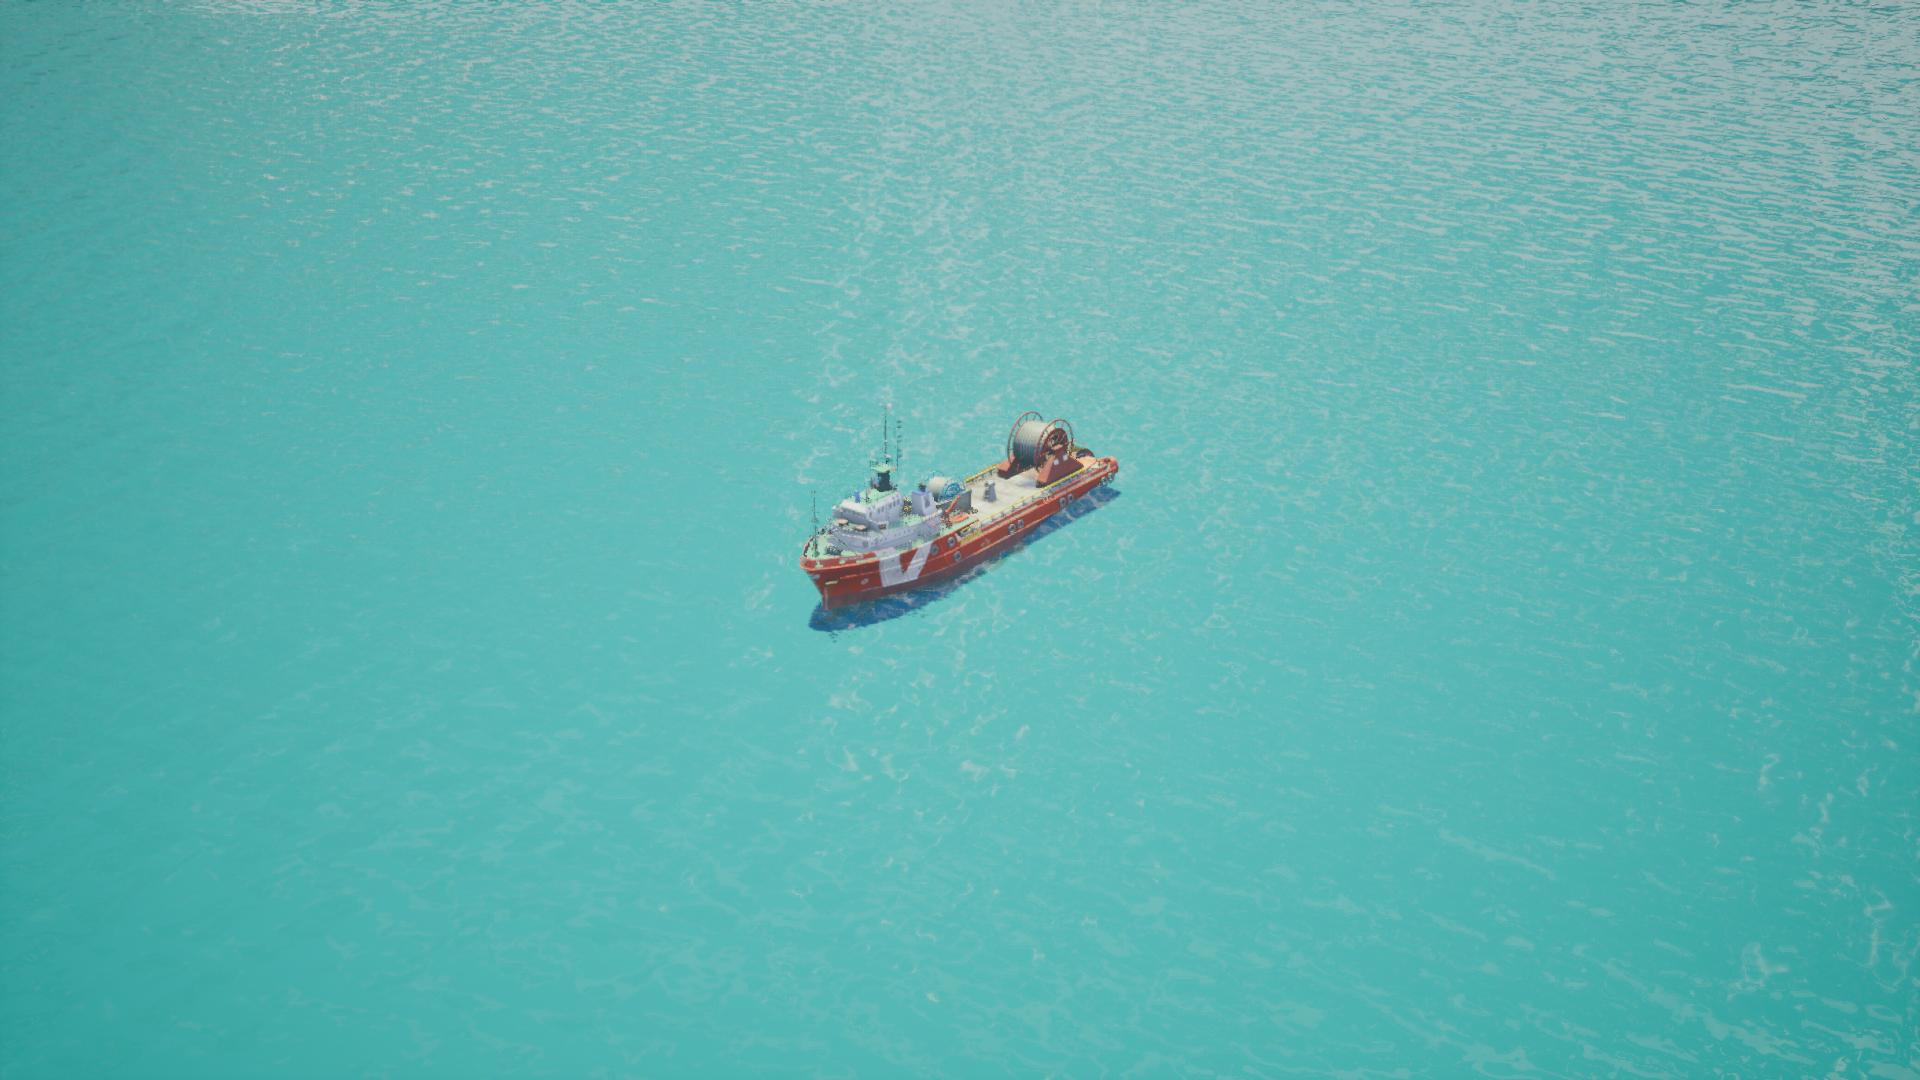Tug Boat: (795, 415, 1122, 633)
